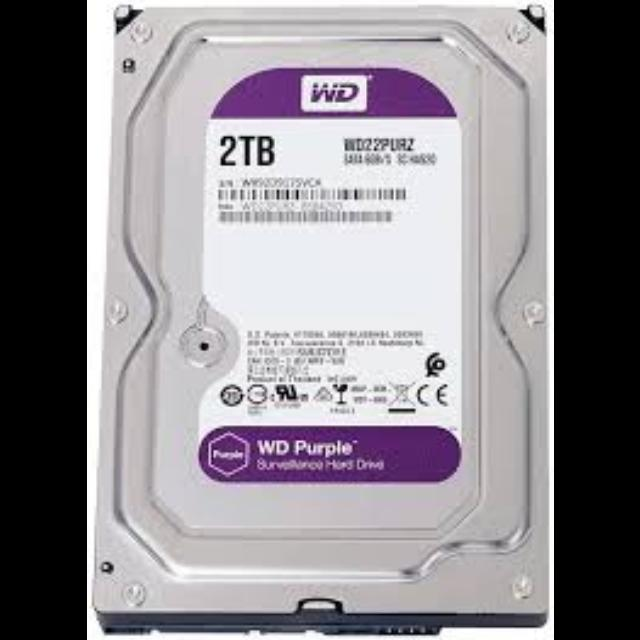HDD: (91, 0, 553, 640)
